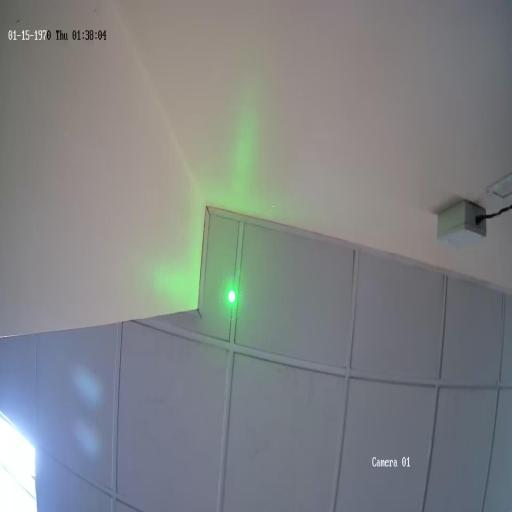laser: (225, 283, 238, 306)
